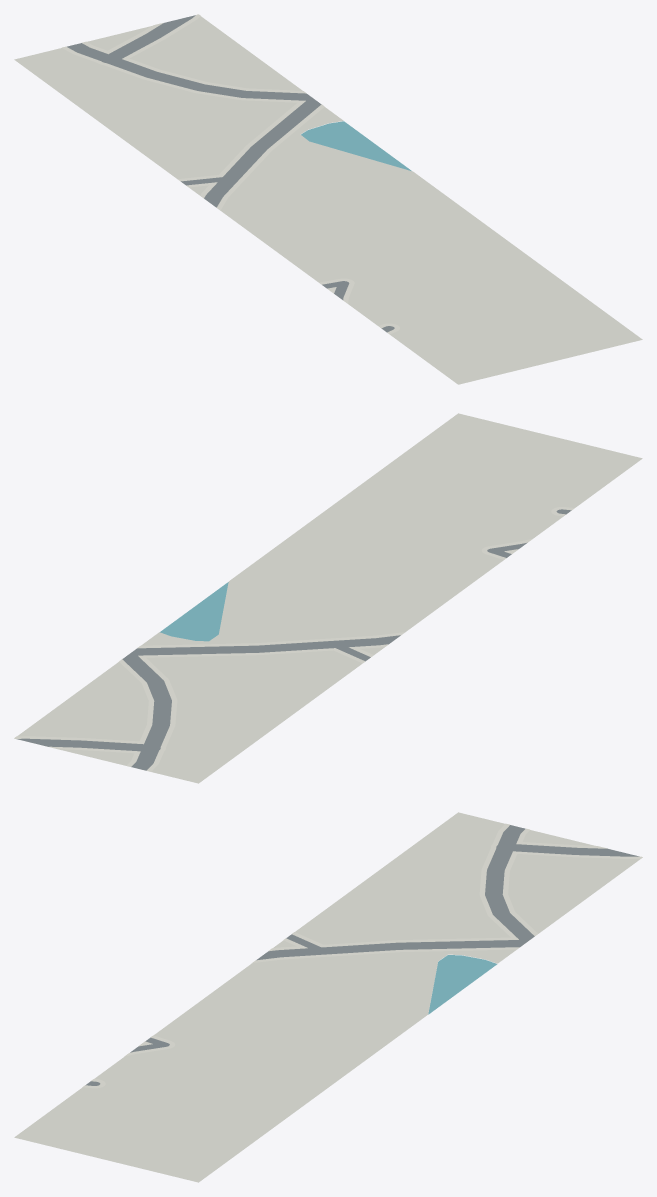
3 renders of one model, top to bottom at view 1: azimuth 30°, elevation 25°; view 2: azimuth 150°, elevation 25°; view 3: azimuth 330°, elevation 25°, orthographic.
Parts seen in each view (by area): view 1: city; view 2: city; view 3: city.
Boxes of the visible parts, left/top/right/bottom form: city: left=14, top=14, right=642, bottom=384; city: left=14, top=413, right=642, bottom=783; city: left=14, top=812, right=642, bottom=1182.
Size of the model in its own units: 120 by 0.4 by 500.
